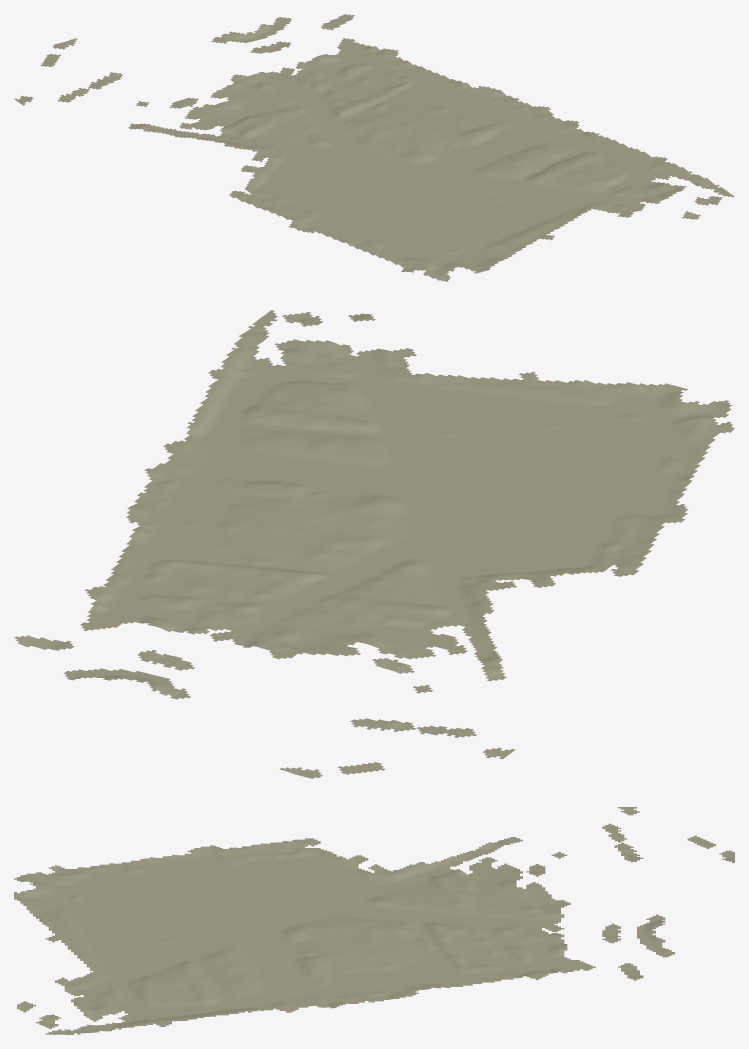
Rendered from ground.glb.
The picture shows the model from 3 angles, top to bottom: view 1: azimuth 30°, elevation 25°; view 2: azimuth 150°, elevation 25°; view 3: azimuth 270°, elevation 25°; orthographic projection. The views are drawn at different scales.
Parts seen in each view (by area): view 1: Yard_ground; view 2: Yard_ground; view 3: Yard_ground.
Boxes of the visible parts, x1=… form: Yard_ground: x1=14, y1=14, x2=734, y2=281; Yard_ground: x1=14, y1=310, x2=734, y2=778; Yard_ground: x1=14, y1=807, x2=734, y2=1034.
Bounding box in the file's own units: 85 × 0.3852 × 114.
